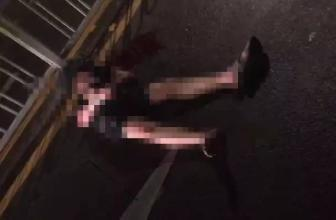Fall-Detected: (58, 27, 268, 163)
